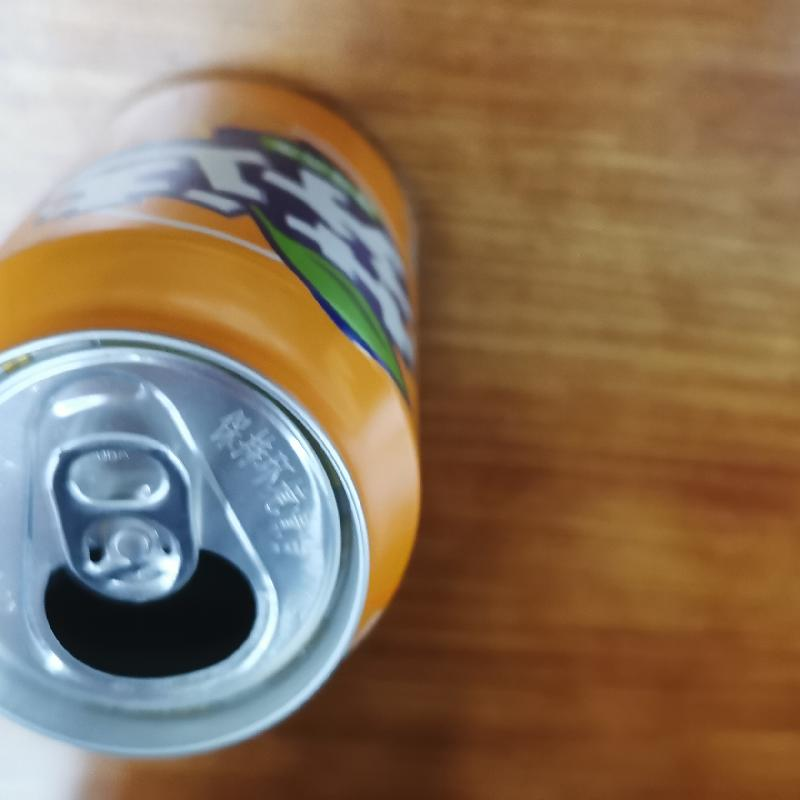cans: (4, 72, 426, 762)
